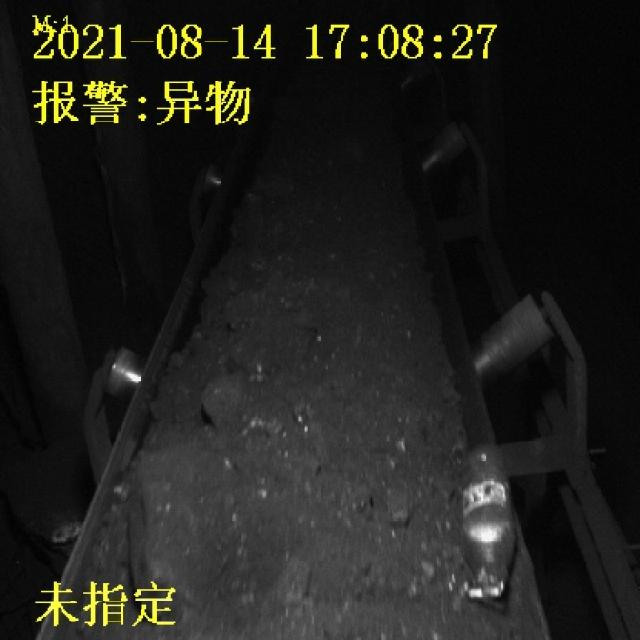Other_garbage: (457, 444, 515, 598)
large_sized_coal: (129, 452, 226, 623), (196, 370, 244, 424)
